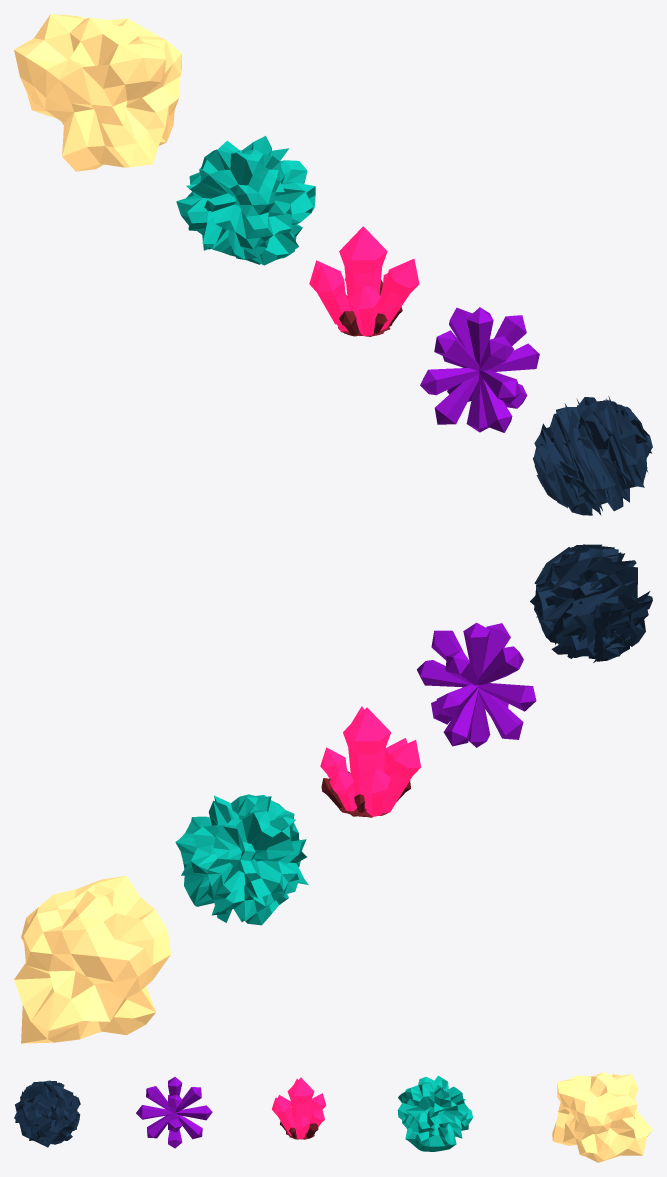
File: AsteroidsX5.fbx
The picture shows the model from 3 angles, top to bottom: view 1: azimuth 30°, elevation 25°; view 2: azimuth 150°, elevation 25°; view 3: azimuth 270°, elevation 25°; orthographic projection. The views are drawn at different scales.
Visible parts, largest first — view 1: Icosphere.001, Icosphere, dust, Cylinder.003, Cylinder.005; view 2: Icosphere.001, Icosphere, dust, Cylinder.003, Cylinder.005; view 3: Icosphere.001, Icosphere, dust, Cylinder.003, Cylinder.005.
Boxes of the visible parts, bbox=[...] form: Icosphere.001: bbox=[14, 14, 181, 171]; Icosphere: bbox=[176, 135, 315, 265]; dust: bbox=[533, 396, 652, 515]; Cylinder.003: bbox=[420, 307, 539, 432]; Cylinder.005: bbox=[309, 226, 419, 336]; Icosphere.001: bbox=[14, 875, 170, 1043]; Icosphere: bbox=[175, 794, 308, 925]; dust: bbox=[530, 544, 652, 662]; Cylinder.003: bbox=[417, 622, 536, 747]; Cylinder.005: bbox=[320, 706, 420, 817]; Icosphere.001: bbox=[552, 1072, 652, 1162]; Icosphere: bbox=[397, 1075, 472, 1151]; dust: bbox=[14, 1080, 80, 1147]; Cylinder.003: bbox=[136, 1077, 212, 1148]; Cylinder.005: bbox=[272, 1077, 326, 1139].
Bounding box in the file's own units: 200 × 194 × 1434.
